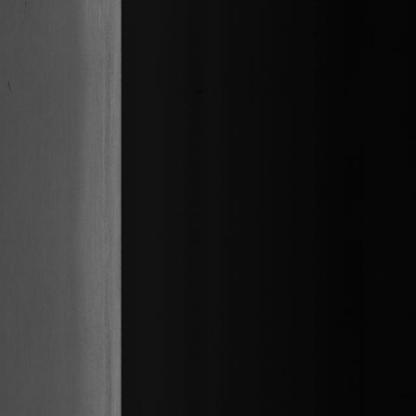inclusion: (1, 73, 16, 101)
